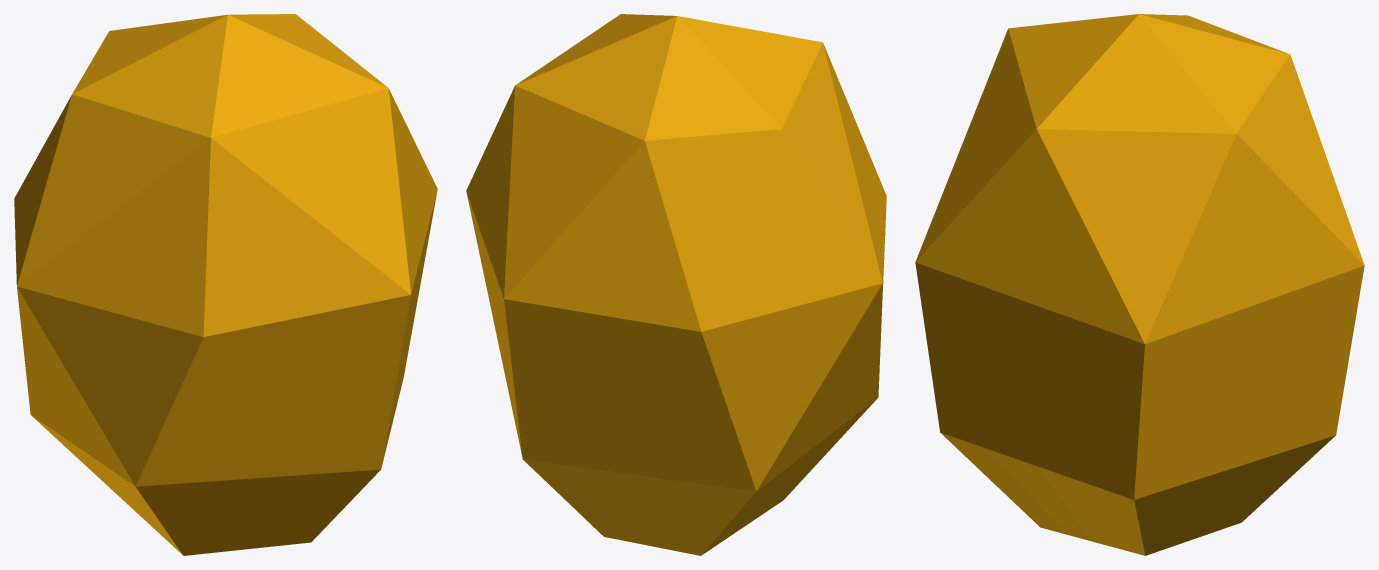
Rendered from lightBrownSeed.fbx.
3 views of the same model, side by side, from view 1: azimuth 30°, elevation 25°; view 2: azimuth 150°, elevation 25°; view 3: azimuth 270°, elevation 25° (orthographic). The views are drawn at different scales.
Parts seen in each view (by area): view 1: Sphere; view 2: Sphere; view 3: Sphere.
Boxes of the visible parts, box(x1,y1,x2,y2) form: Sphere: box(14, 14, 437, 555); Sphere: box(466, 14, 886, 555); Sphere: box(915, 14, 1364, 555).
Size of the model in its own units: 16.9 by 20.17 by 15.62.
